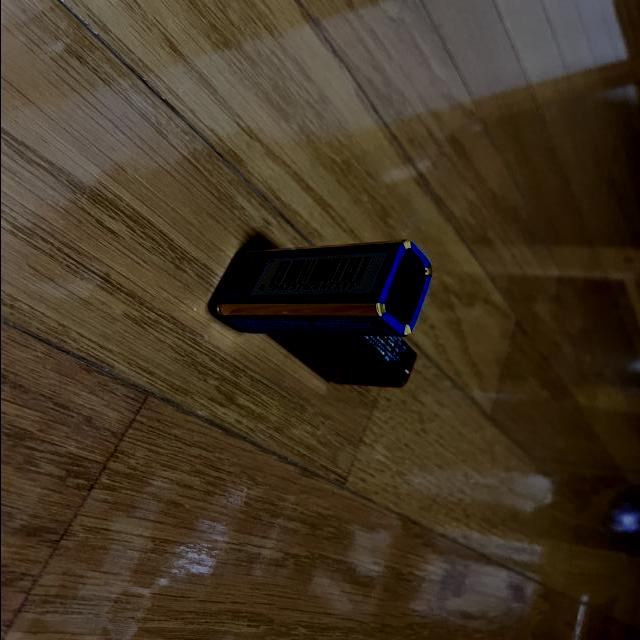9V: (212, 240, 432, 336), (265, 303, 418, 387)
